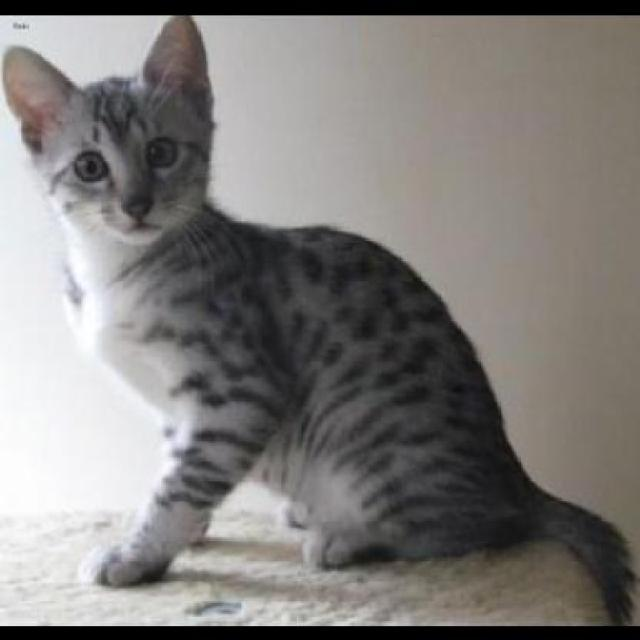unauthorized: (0, 13, 638, 624)
